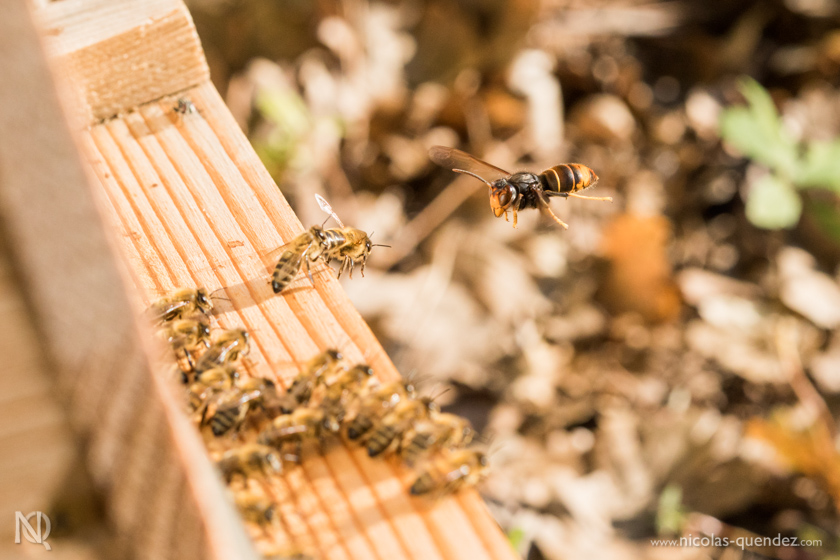bee: (276, 343, 352, 411), (375, 381, 452, 444), (412, 445, 498, 500), (315, 215, 389, 278), (271, 227, 331, 297), (209, 383, 279, 437), (149, 281, 222, 329), (194, 326, 259, 379)
hornet: (474, 150, 619, 237)
